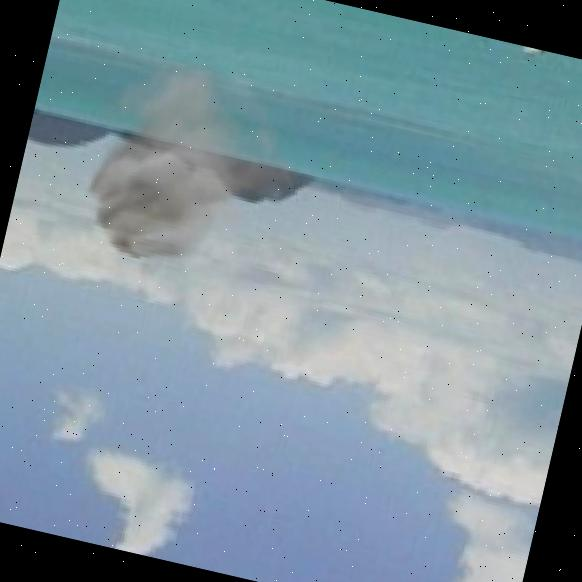smoke: (51, 34, 334, 313)
